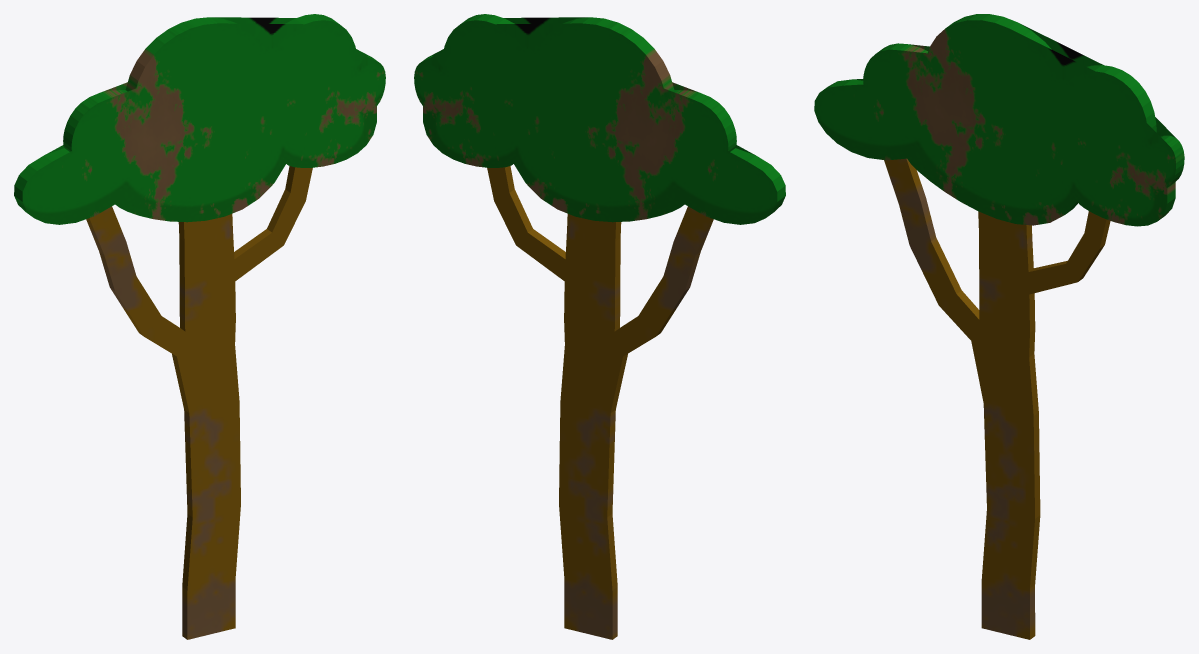
The model's file is arbol 2.fbx.
3 views of the same model, side by side, from view 1: azimuth 30°, elevation 25°; view 2: azimuth 150°, elevation 25°; view 3: azimuth 330°, elevation 25° (orthographic).
Parts seen in each view (by area): view 1: arbol 2; view 2: arbol 2; view 3: arbol 2.
Part boxes in pixels (bbox=[...]): arbol 2: bbox=[14, 14, 385, 639]; arbol 2: bbox=[414, 14, 785, 639]; arbol 2: bbox=[814, 14, 1184, 639].
Size of the model in its own units: 440 by 709 by 17.73.
